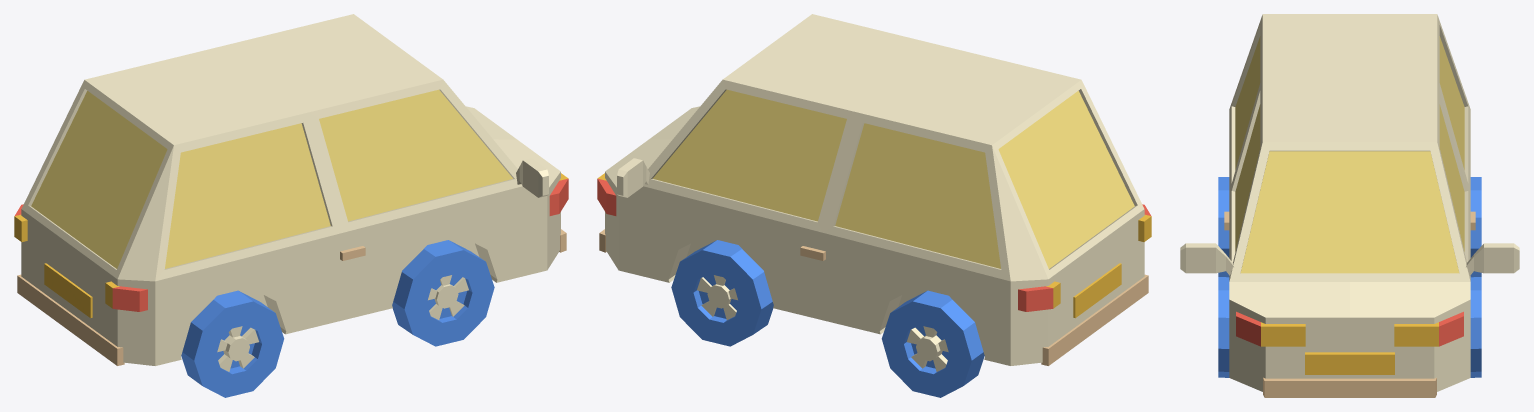
Rendered from WhiteCarModel_v2.fbx.
3 views of the same model, side by side, from view 1: azimuth 30°, elevation 25°; view 2: azimuth 150°, elevation 25°; view 3: azimuth 270°, elevation 25° (orthographic). The views are drawn at different scales.
Parts seen in each view (by area): view 1: RoundedCar; view 2: RoundedCar; view 3: RoundedCar.
Boxes of the visible parts, x1=… form: RoundedCar: x1=14, y1=14, x2=568, y2=397; RoundedCar: x1=597, y1=14, x2=1151, y2=397; RoundedCar: x1=1180, y1=14, x2=1519, y2=397.
Bounding box in the file's own units: 429 × 217 × 282.
